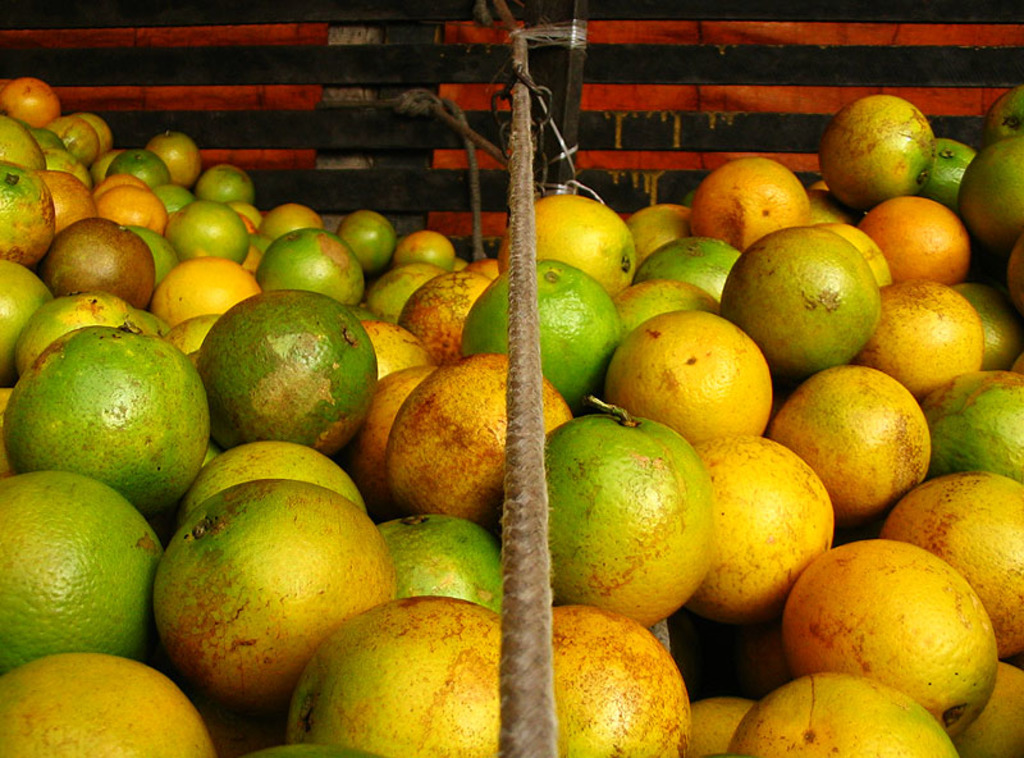Ripe: (150, 474, 408, 693), (786, 538, 1007, 732), (8, 321, 232, 507), (276, 611, 518, 757), (552, 414, 709, 624), (0, 475, 154, 668), (698, 433, 829, 616), (608, 309, 774, 447), (730, 220, 876, 376), (216, 297, 370, 443), (0, 657, 219, 757), (461, 259, 621, 394), (728, 668, 955, 757), (548, 604, 680, 757), (786, 364, 924, 510), (904, 465, 1023, 633), (691, 151, 817, 255), (531, 186, 657, 288), (876, 271, 963, 402), (923, 373, 1023, 481), (41, 207, 157, 300), (865, 195, 970, 280), (959, 131, 1023, 269), (831, 93, 914, 195), (264, 224, 372, 300), (402, 271, 490, 353), (952, 656, 1023, 757), (952, 268, 1015, 373), (161, 202, 268, 260), (628, 234, 733, 288), (625, 196, 691, 273), (0, 157, 46, 255), (142, 125, 204, 196), (687, 689, 754, 754), (36, 175, 93, 247), (93, 179, 166, 232), (342, 204, 394, 275), (0, 256, 36, 352), (364, 318, 430, 370), (372, 264, 430, 318), (109, 146, 168, 192), (49, 105, 86, 174), (0, 77, 52, 123), (0, 123, 42, 178), (187, 168, 252, 202), (401, 228, 462, 264), (255, 202, 312, 238), (78, 109, 99, 154)
